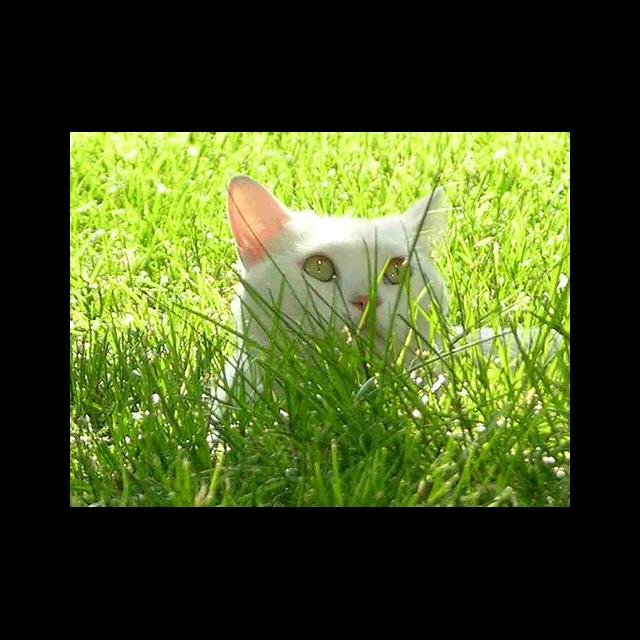animals: (236, 180, 441, 318)
